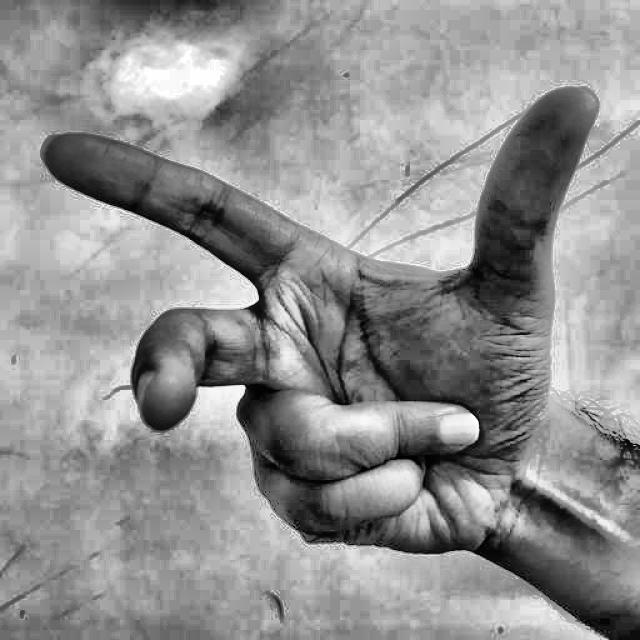Da: (20, 40, 618, 618)
